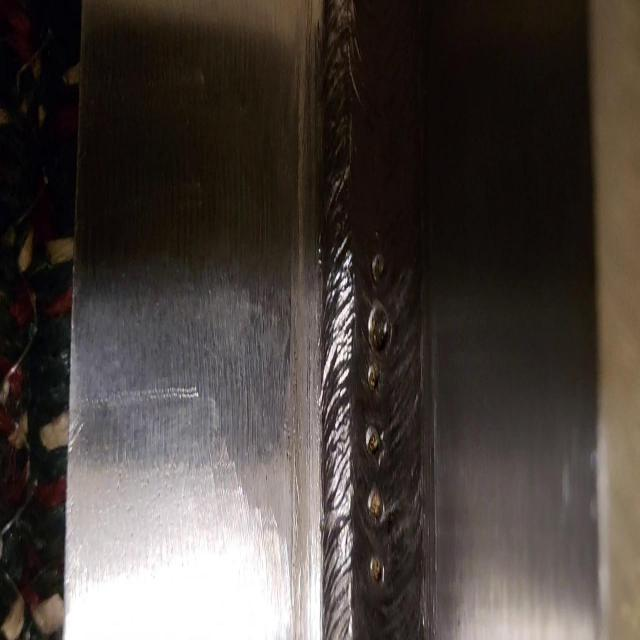Welding Line: (318, 3, 431, 640)
Workpiece: (79, 0, 640, 640)
porosity: (367, 249, 391, 517)
